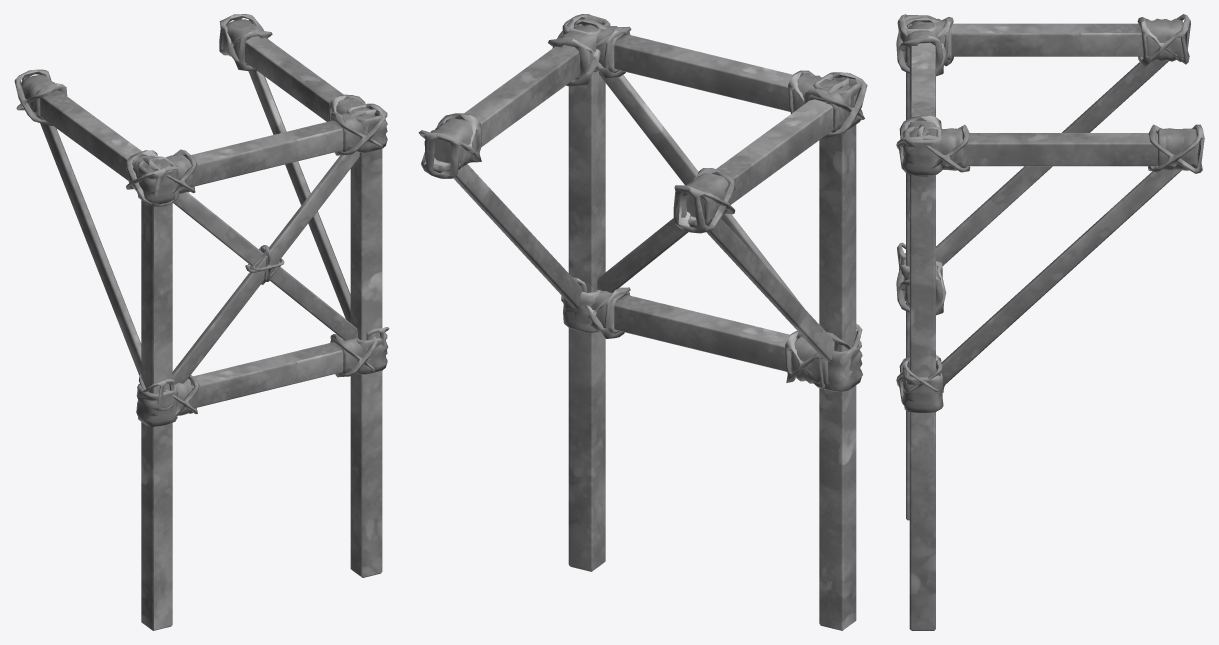
Rendered from SM_Scafold_01c.fbx.
The picture shows the model from 3 angles, left to right: view 1: azimuth 30°, elevation 25°; view 2: azimuth 150°, elevation 25°; view 3: azimuth 270°, elevation 25°; orthographic projection. The views are drawn at different scales.
Visible parts, largest first — view 1: SM_Scafold_01c_LOD0; view 2: SM_Scafold_01c_LOD0; view 3: SM_Scafold_01c_LOD0.
Part boxes in pixels (left/top/right/bottom): SM_Scafold_01c_LOD0: left=14, top=14, right=389, bottom=630; SM_Scafold_01c_LOD0: left=418, top=14, right=867, bottom=630; SM_Scafold_01c_LOD0: left=896, top=14, right=1204, bottom=630.
Bounding box in the file's own units: 238 × 235 × 418.
